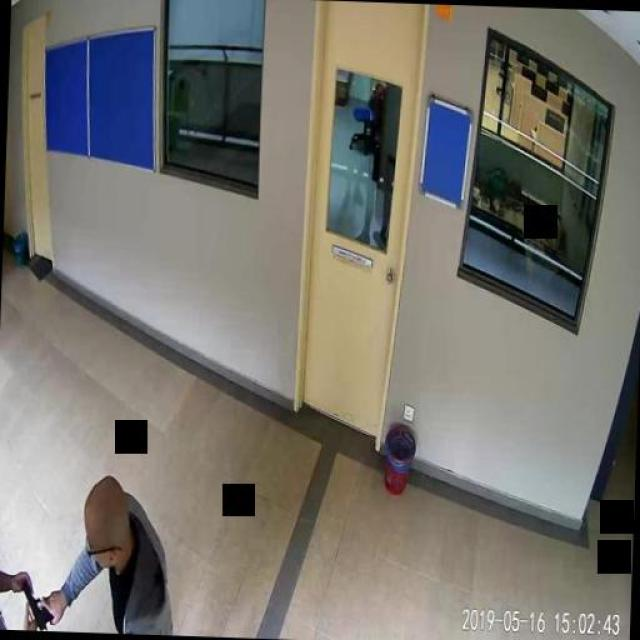gun: (21, 582, 55, 628)
